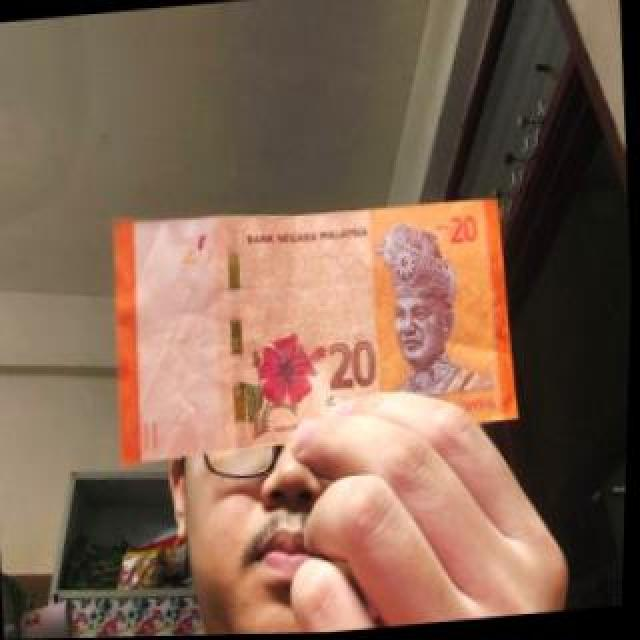20 Ringgit: (110, 192, 528, 467)
